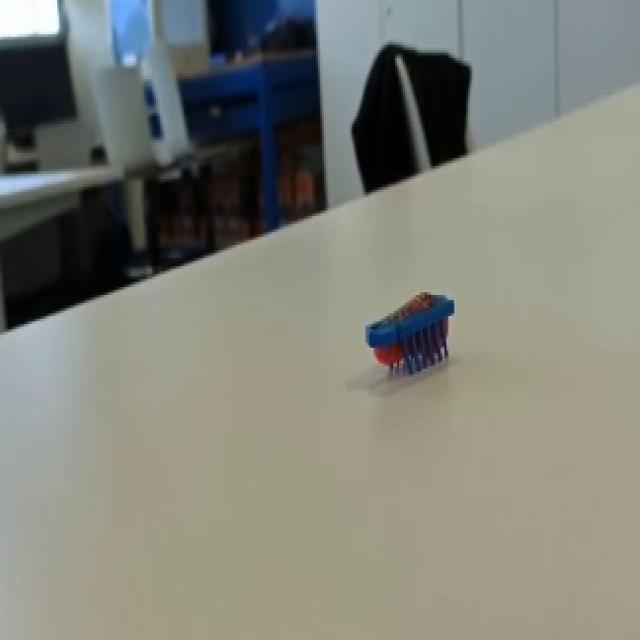1_NanoBug_Azul: (341, 274, 496, 423)
